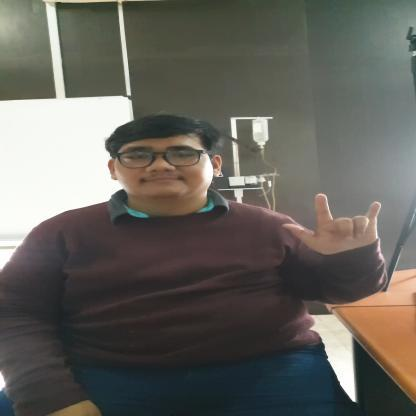ILoveYou: (282, 192, 386, 260)
